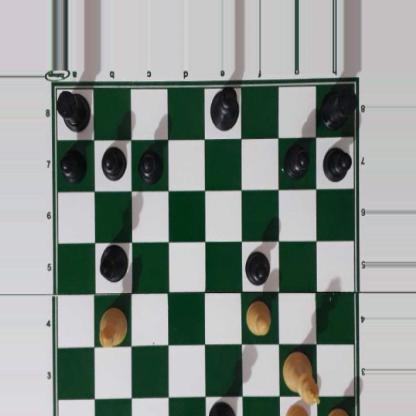black-bishop: (97, 244, 130, 282)
black-king: (208, 84, 240, 132)
black-pawn: (322, 143, 350, 182), (283, 142, 309, 179), (138, 145, 162, 185), (60, 145, 85, 181), (245, 248, 270, 284), (101, 144, 124, 181)
black-queen: (208, 401, 237, 416)
black-rook: (54, 86, 91, 132), (321, 84, 357, 128)
white-bishop: (98, 308, 128, 346)
white-king: (281, 351, 322, 406)
white-pawn: (244, 297, 271, 335), (283, 404, 312, 416), (325, 406, 353, 416)
